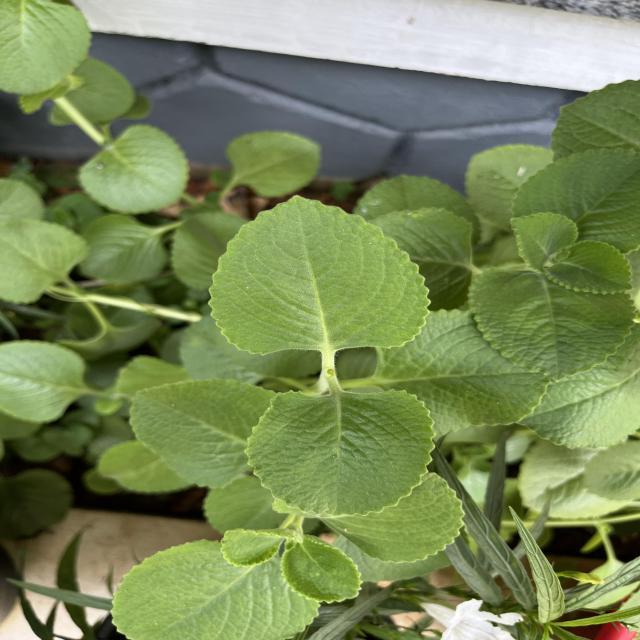Plectranthus barbatus: (205, 192, 434, 358), (246, 386, 436, 520), (109, 536, 322, 640), (466, 266, 637, 384), (126, 375, 278, 492), (76, 122, 192, 217), (0, 215, 88, 306), (0, 338, 88, 426), (222, 130, 322, 200), (278, 536, 364, 605), (545, 238, 633, 296)
